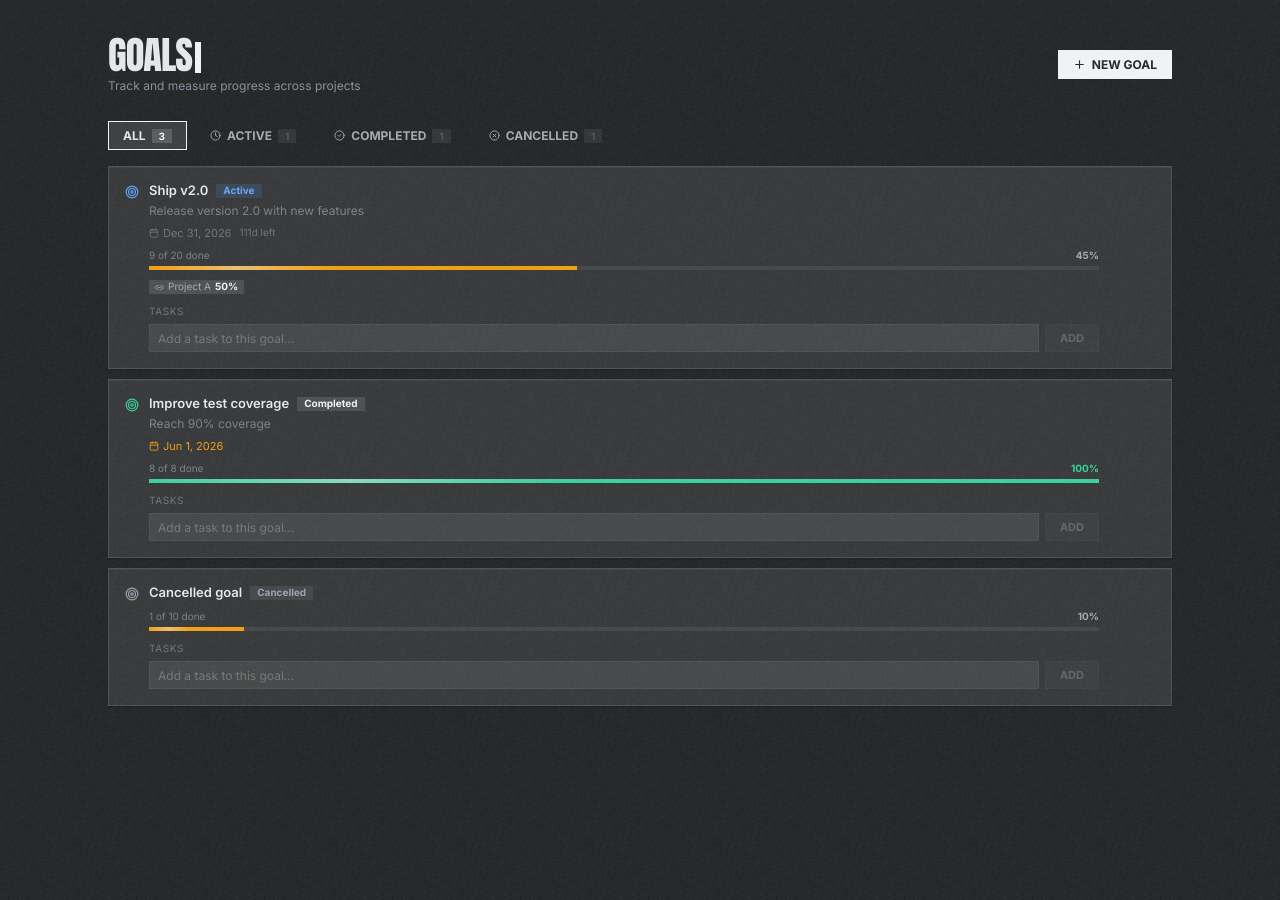
Goals › opens form modal when create button is clicked
// Click the create button in the header
What coordinates should you click on to do the following:
click the button "New Goal"
I would click on:
 (1115, 65)
Its box is [1058,50,1172,79].
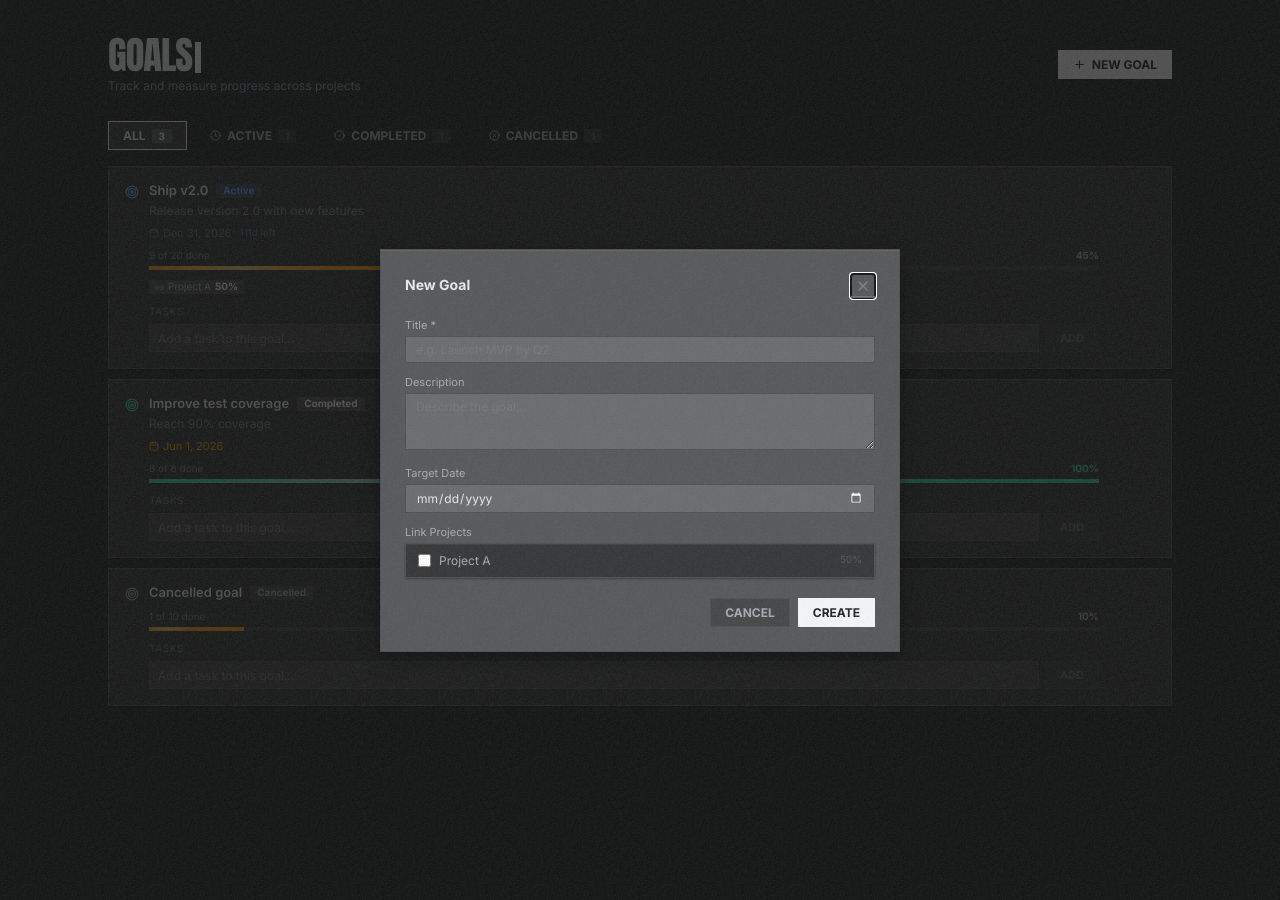
expect the field with placeholder "e.g. Launch MVP by Q2" is shown: met, box [405,336,875,362]
